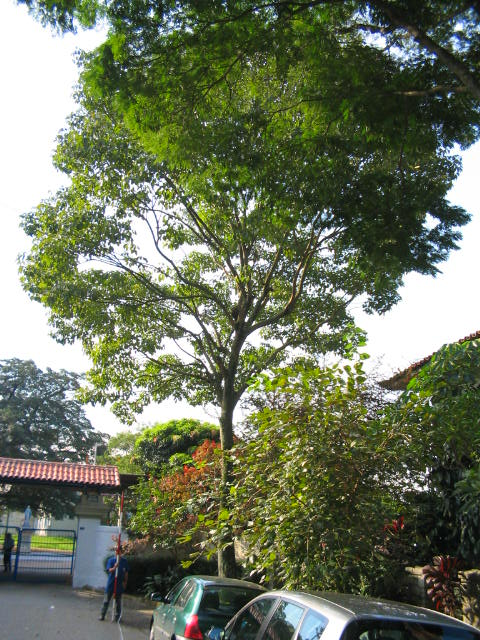crown: (20, 25, 464, 411)
stem: (201, 407, 254, 626)
stick: (112, 489, 126, 625)
tree: (17, 23, 467, 628)
